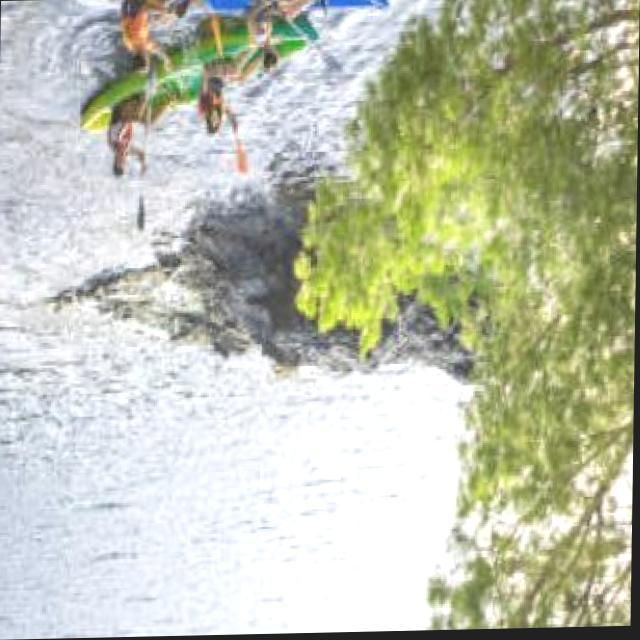kayak: (152, 39, 217, 105), (80, 73, 143, 132), (272, 28, 305, 64), (222, 22, 248, 62)
